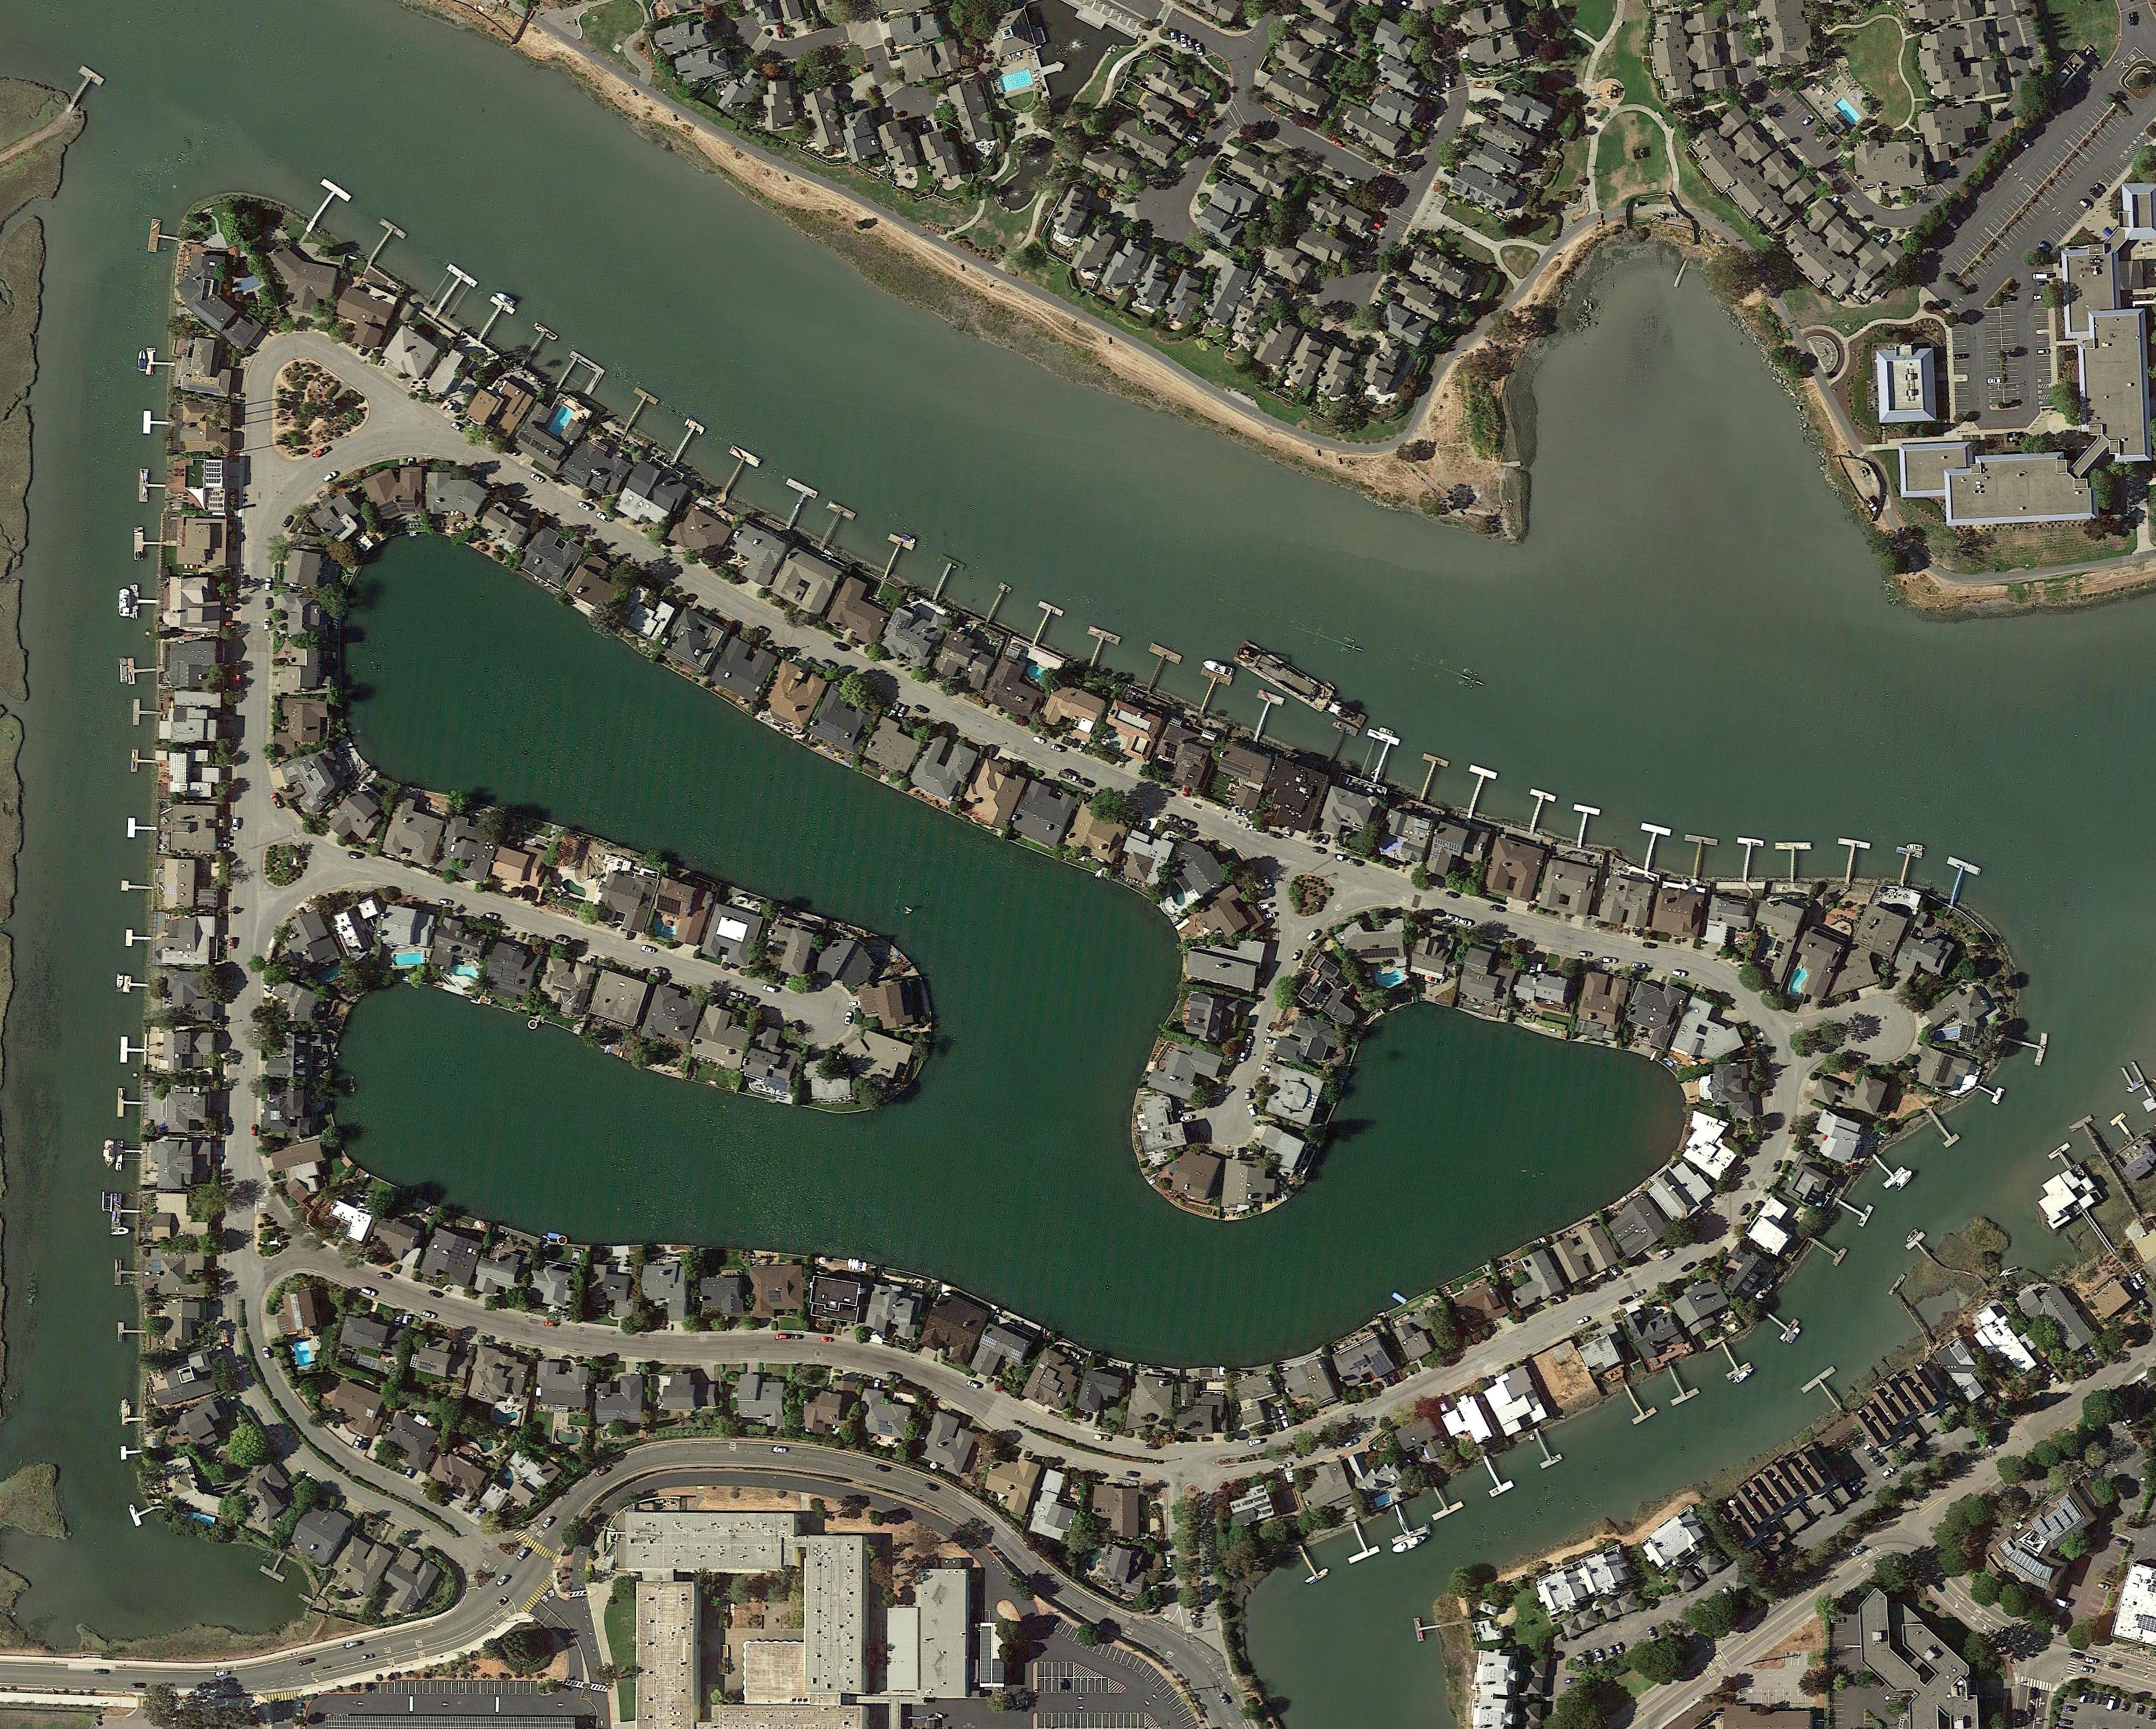harbor: (423, 263, 480, 323), (711, 445, 762, 503), (552, 351, 605, 406), (302, 176, 353, 233), (1800, 1366, 1853, 1418), (358, 217, 408, 272), (1134, 642, 1184, 693), (469, 295, 515, 349), (1355, 729, 1401, 782), (1937, 854, 1983, 905), (1334, 1517, 1381, 1565), (1655, 1358, 1701, 1408), (513, 321, 558, 372), (1457, 764, 1498, 817), (1381, 1500, 1427, 1546), (775, 478, 819, 526), (1189, 667, 1233, 715), (1419, 1478, 1464, 1523), (1078, 625, 1122, 670), (925, 554, 967, 602), (618, 386, 660, 434), (64, 64, 106, 111), (1246, 690, 1286, 739), (1413, 1609, 1471, 1643), (1905, 1231, 1950, 1276), (1863, 1145, 1907, 1189), (815, 501, 857, 547), (1616, 1380, 1657, 1426), (1711, 1336, 1752, 1381), (1831, 838, 1872, 884), (1318, 718, 1359, 764), (1475, 1450, 1514, 1498), (1411, 753, 1450, 801), (2006, 1027, 2050, 1067), (1524, 1424, 1563, 1470), (1025, 600, 1064, 646), (1634, 824, 1673, 870), (1680, 835, 1720, 877), (877, 533, 916, 577), (1291, 1540, 1329, 1586), (669, 420, 706, 464), (1925, 1106, 1962, 1150), (1761, 1304, 1801, 1343), (1521, 789, 1556, 833), (1890, 845, 1925, 887), (1567, 805, 1602, 845), (1775, 843, 1812, 880), (1837, 1193, 1875, 1228), (1733, 836, 1764, 879), (127, 1494, 166, 1528), (1810, 1233, 1849, 1267), (983, 580, 1013, 623), (259, 1553, 295, 1584), (111, 1193, 139, 1231), (148, 219, 178, 254), (2048, 1141, 2078, 1175), (139, 469, 166, 505), (134, 528, 161, 561), (1974, 1080, 2006, 1106), (2110, 1113, 2137, 1145), (127, 658, 157, 685), (131, 586, 155, 617), (116, 1141, 141, 1173), (120, 1036, 145, 1064), (118, 1089, 141, 1119), (146, 349, 171, 376), (143, 411, 169, 436), (118, 1321, 146, 1344), (115, 1258, 138, 1286), (127, 819, 157, 840), (131, 750, 155, 775), (134, 699, 155, 727), (122, 1401, 145, 1426), (124, 976, 148, 995), (125, 930, 150, 947), (122, 880, 152, 894), (120, 1445, 145, 1461)
ship: (1231, 637, 1336, 716), (1327, 699, 1369, 730), (1389, 1533, 1427, 1554), (1202, 658, 1235, 679), (1890, 1168, 1916, 1193), (1731, 1366, 1755, 1387), (492, 289, 519, 309), (101, 1138, 116, 1168), (118, 588, 131, 617), (101, 1191, 116, 1214), (1785, 1325, 1801, 1344), (118, 658, 129, 685), (1904, 1228, 1920, 1244), (900, 531, 917, 545), (138, 349, 148, 372), (1376, 725, 1396, 737), (109, 1226, 129, 1235), (115, 972, 125, 988), (1907, 843, 1925, 852)
